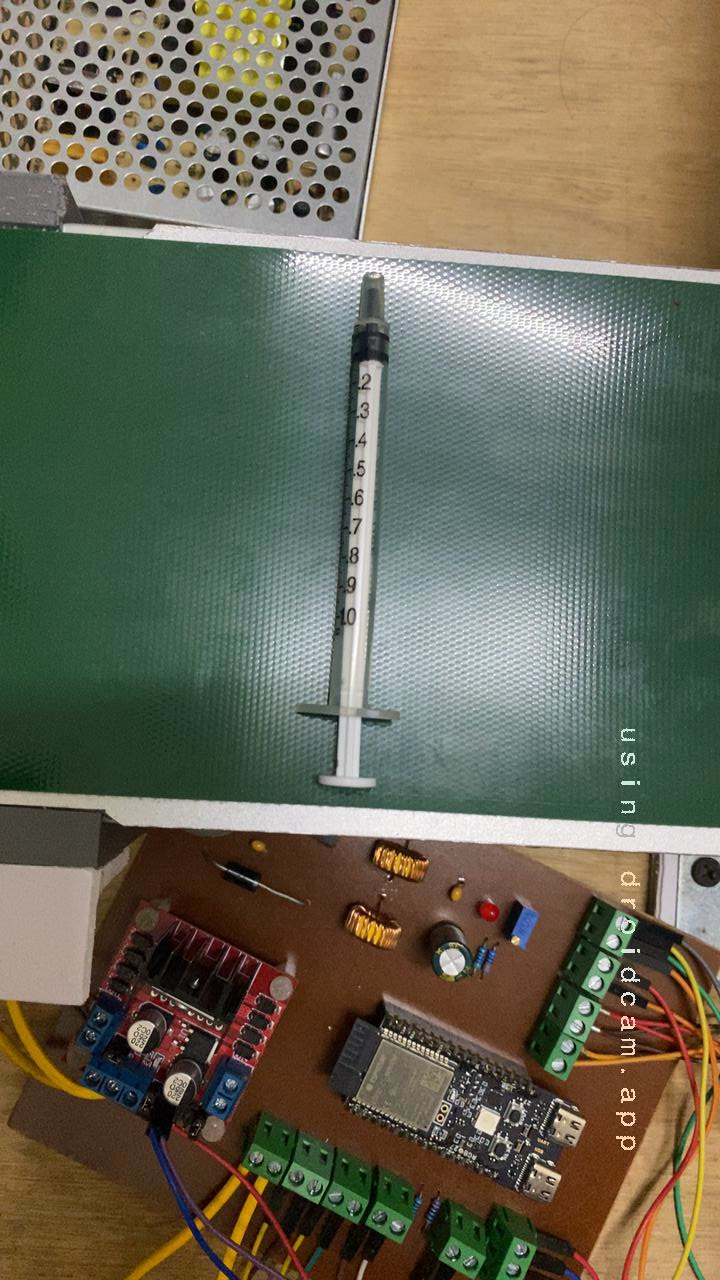syringe: (230, 270, 488, 814)
